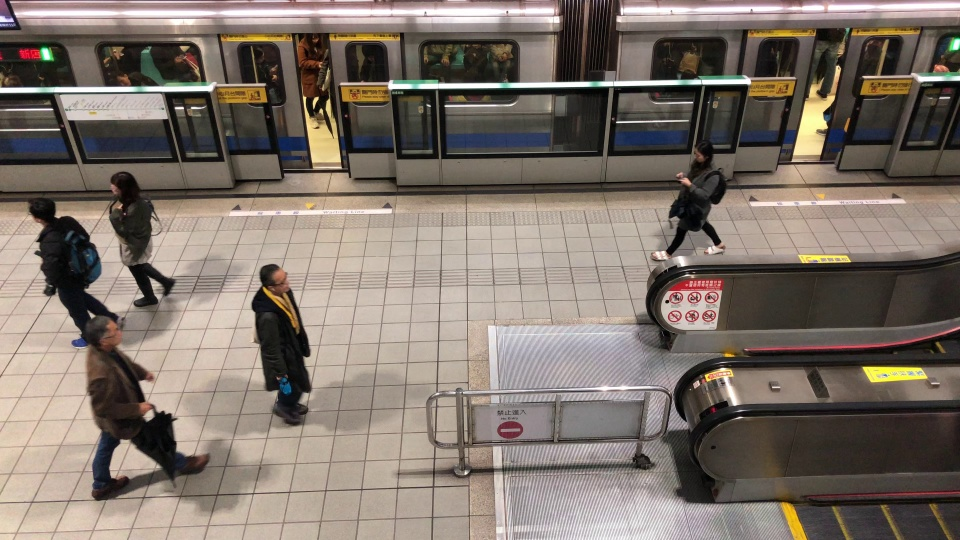person_head: (83, 316, 124, 355), (254, 261, 292, 299), (24, 198, 58, 227), (107, 173, 134, 201), (690, 140, 716, 163), (302, 34, 319, 52), (253, 45, 266, 62), (324, 47, 330, 60)
person_vbox: (74, 315, 213, 506), (20, 197, 126, 350), (240, 261, 315, 426), (98, 171, 177, 307), (650, 139, 729, 266), (309, 47, 339, 137), (244, 45, 279, 109), (295, 36, 321, 119), (811, 23, 834, 103)
